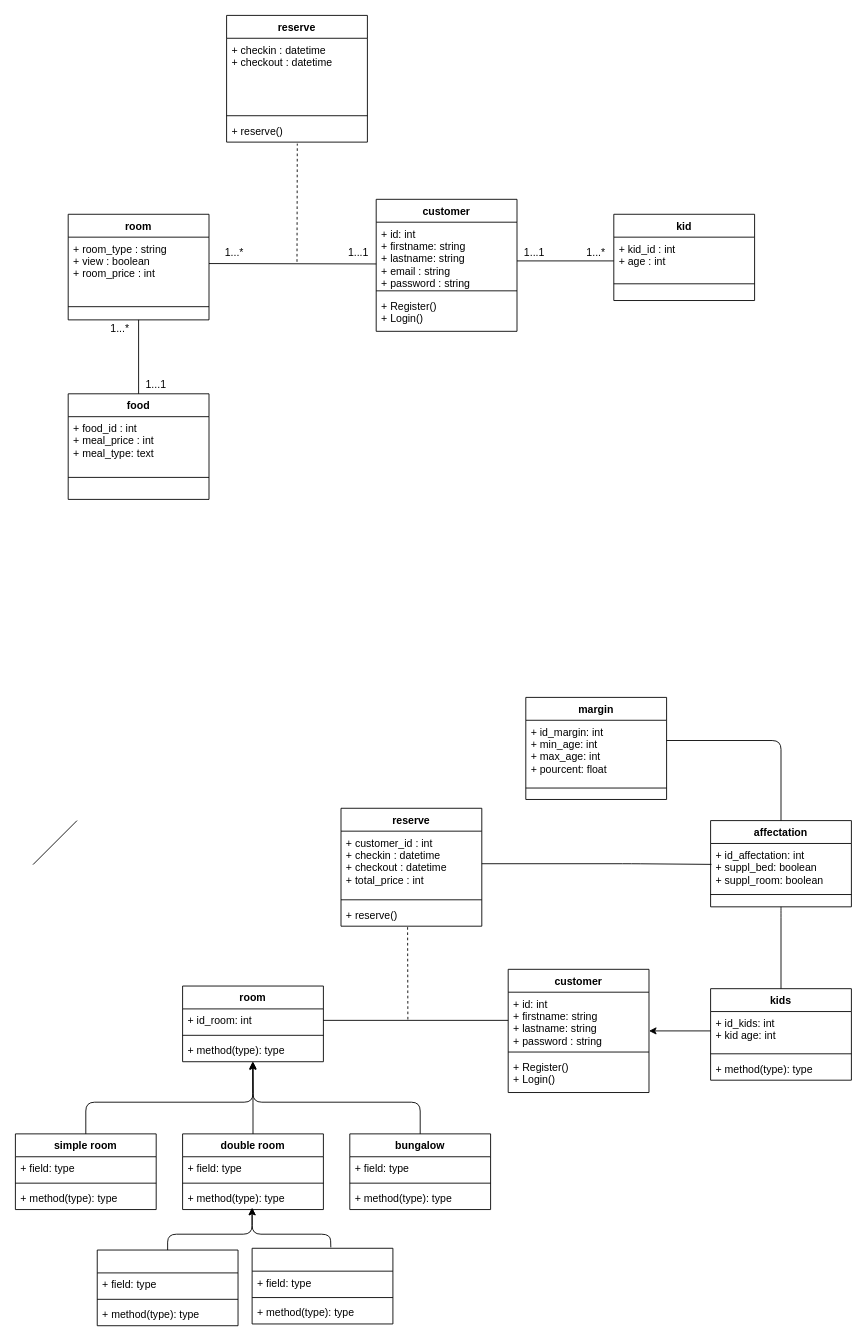
The diagram is 867 pixels wide and 1344 high, and some of its shapes have lost their labels. Each missing label, with the box of its shape:
one bed: (96, 1249, 238, 1326)
two beds: (251, 1247, 393, 1324)
